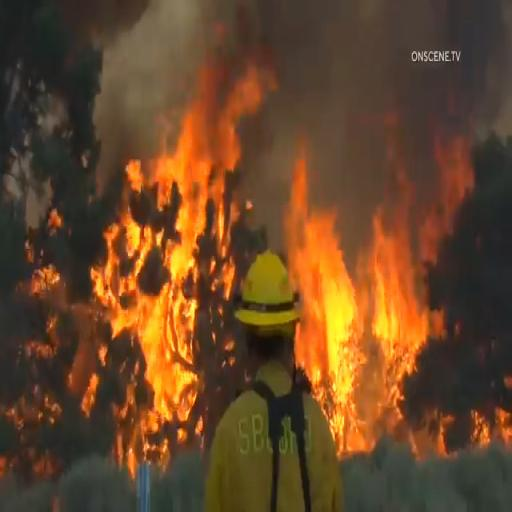fire: (72, 53, 246, 432), (303, 159, 420, 433)
smoke: (270, 9, 390, 141)
